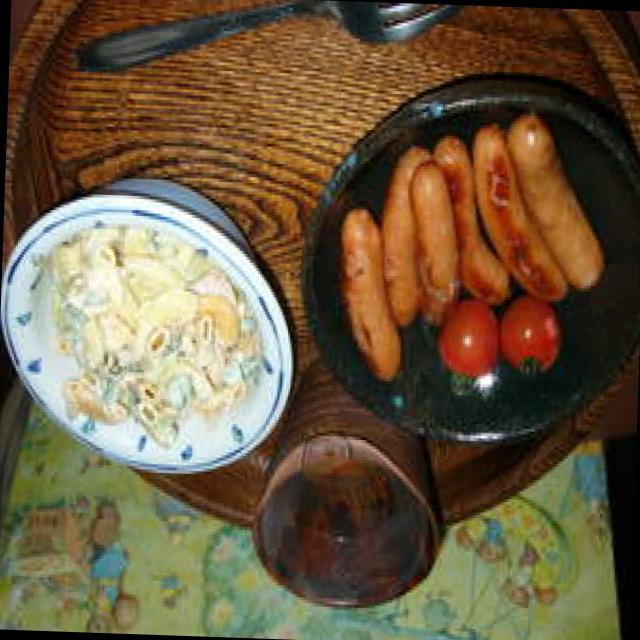Sausage: (339, 109, 609, 334)
Tomato: (432, 298, 564, 395)
